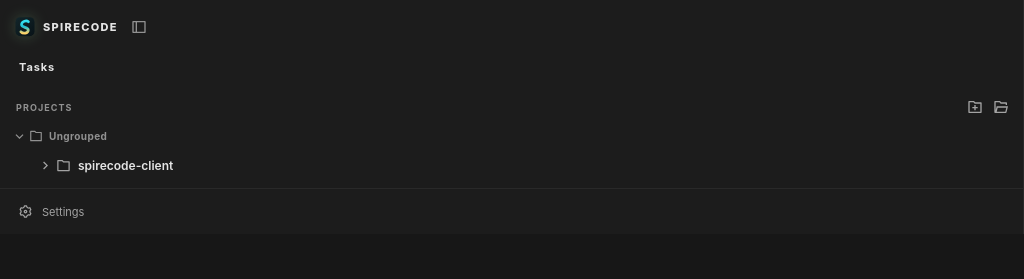
ProjectRail › shows the directory session empty state
Click the button with aria-label "Expand spirecode-client".
click(126, 165)  # box top-left (36, 150), bottom-right (989, 180)
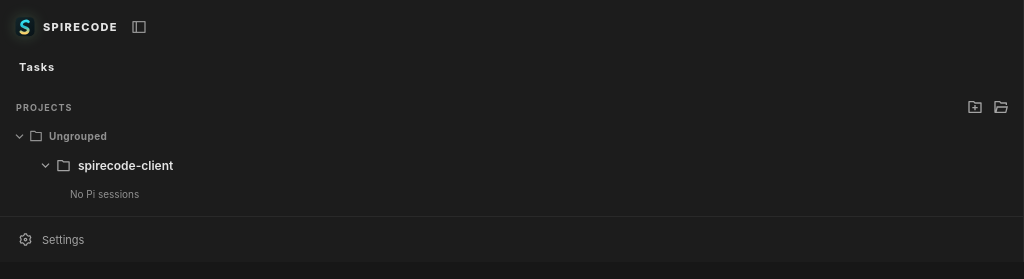
Now the text "No Pi sessions" is shown, box top-left (70, 188), bottom-right (139, 200)
